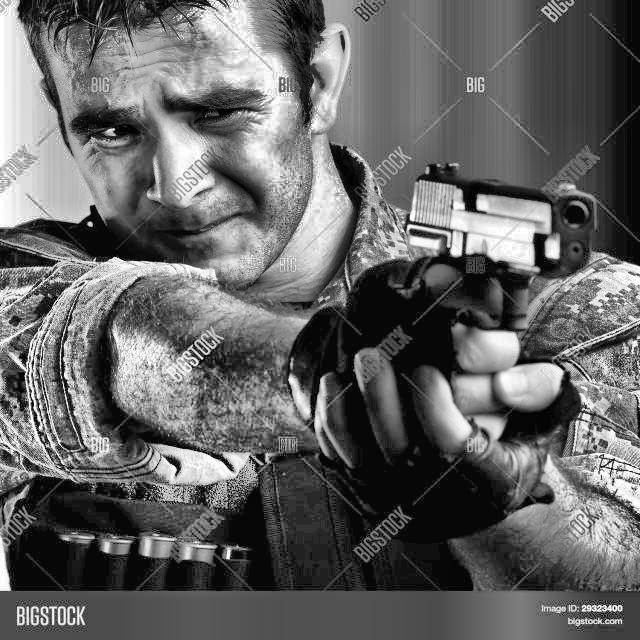pistol: (388, 155, 612, 388)
